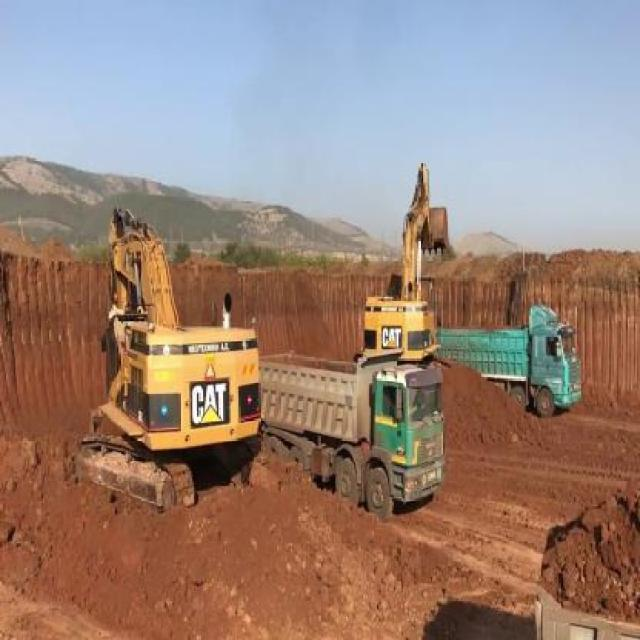dump_truck: (257, 331, 448, 517), (436, 312, 582, 418)
excavator: (74, 202, 260, 512), (357, 161, 449, 364)
